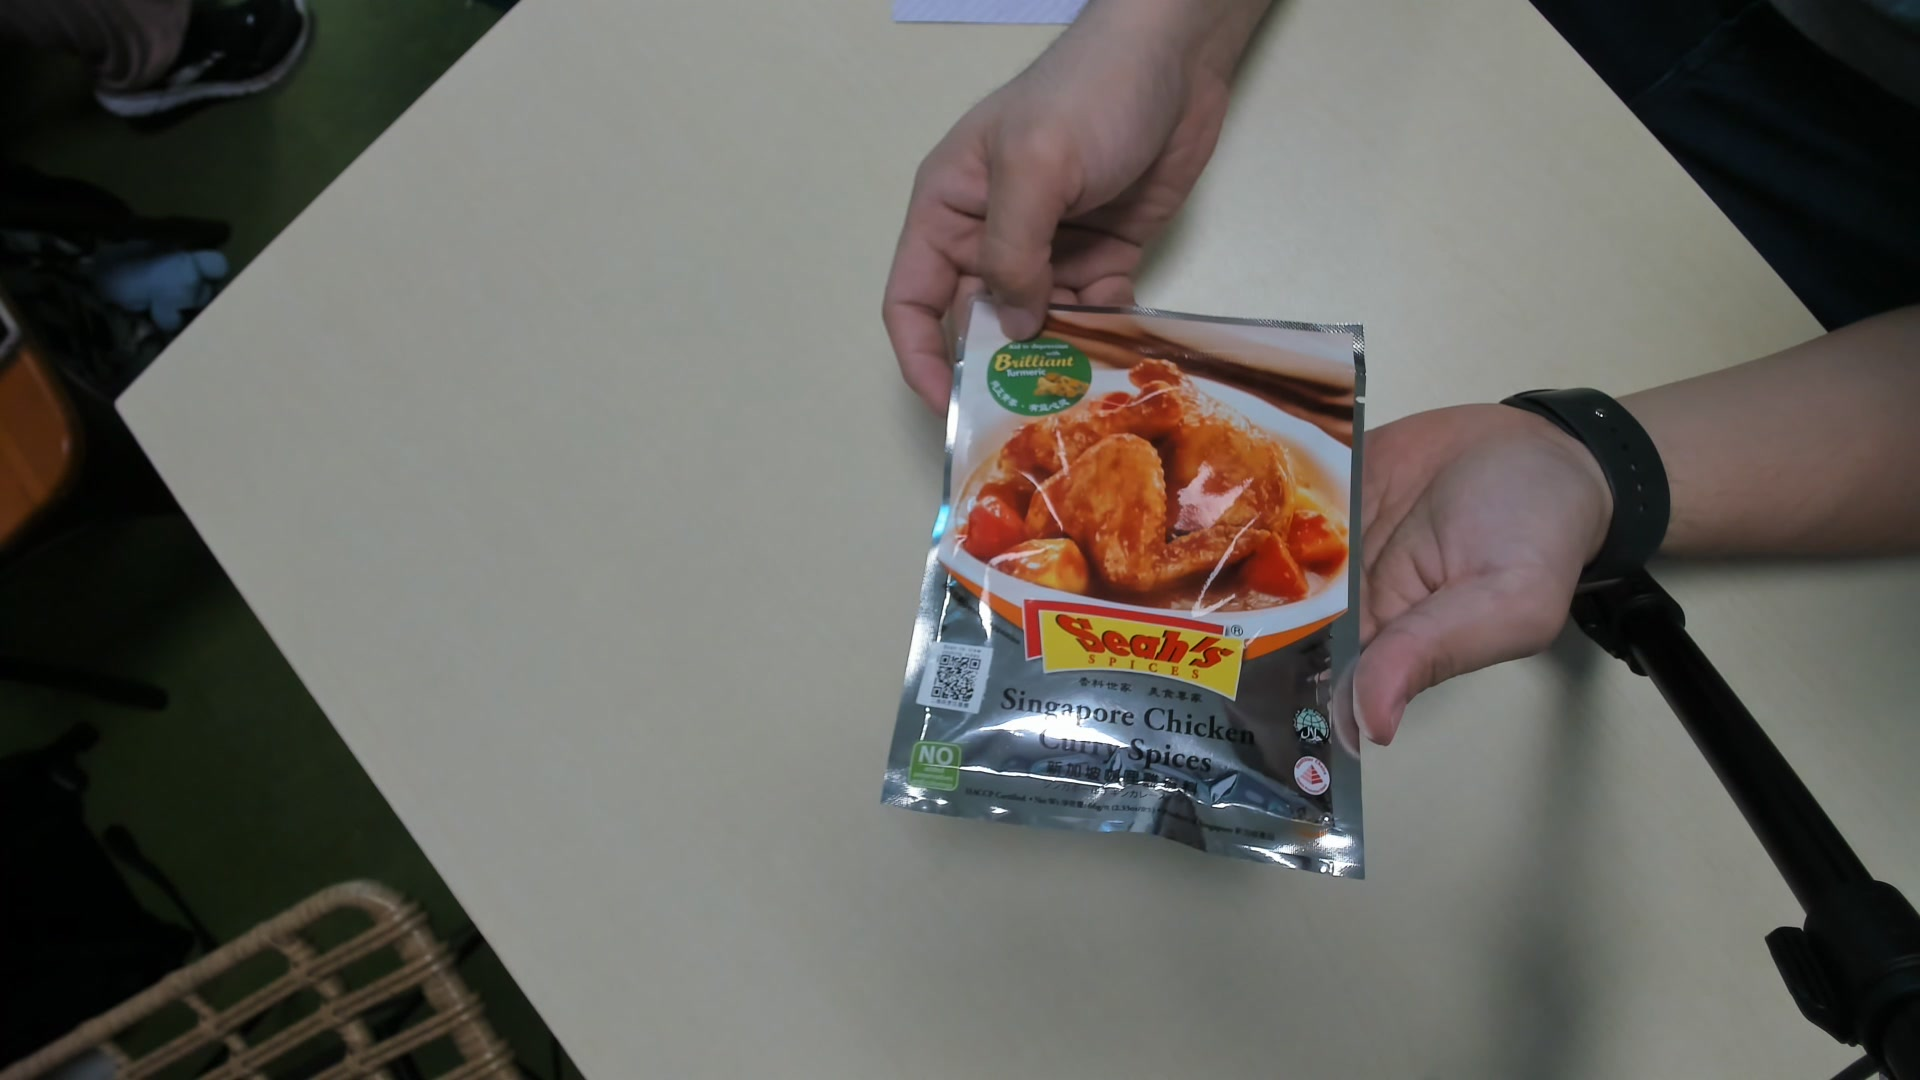CurryPastePowderSauce_0-99g_Halal_Healthy: (897, 297, 1366, 893)
